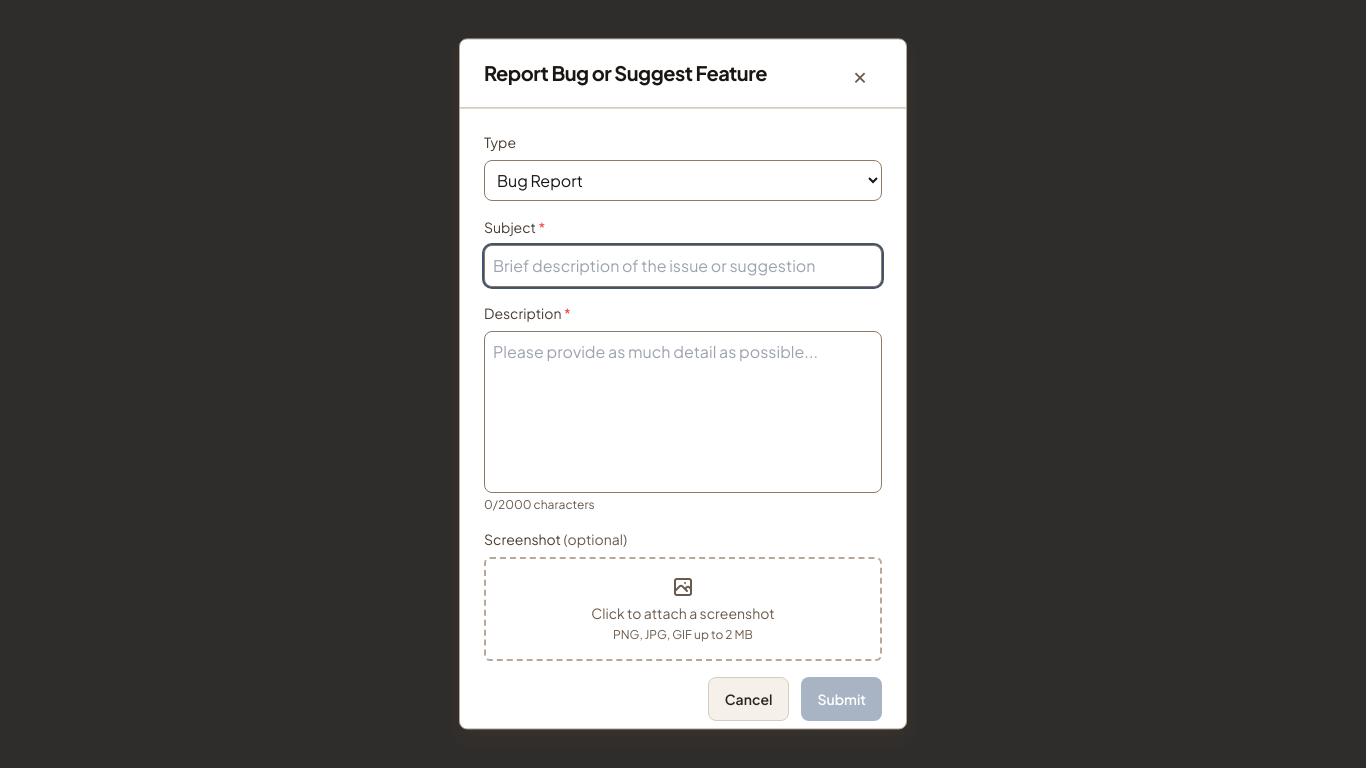
Test: FeedbackForm logged-out submission (87.6 D-08) › submits to the public feedback endpoint with NO Authorization header
Type "Logged-out bug" into the field with placeholder "Brief description of the issue or suggestion". click: (683, 266)
box: [484,245,882,287]
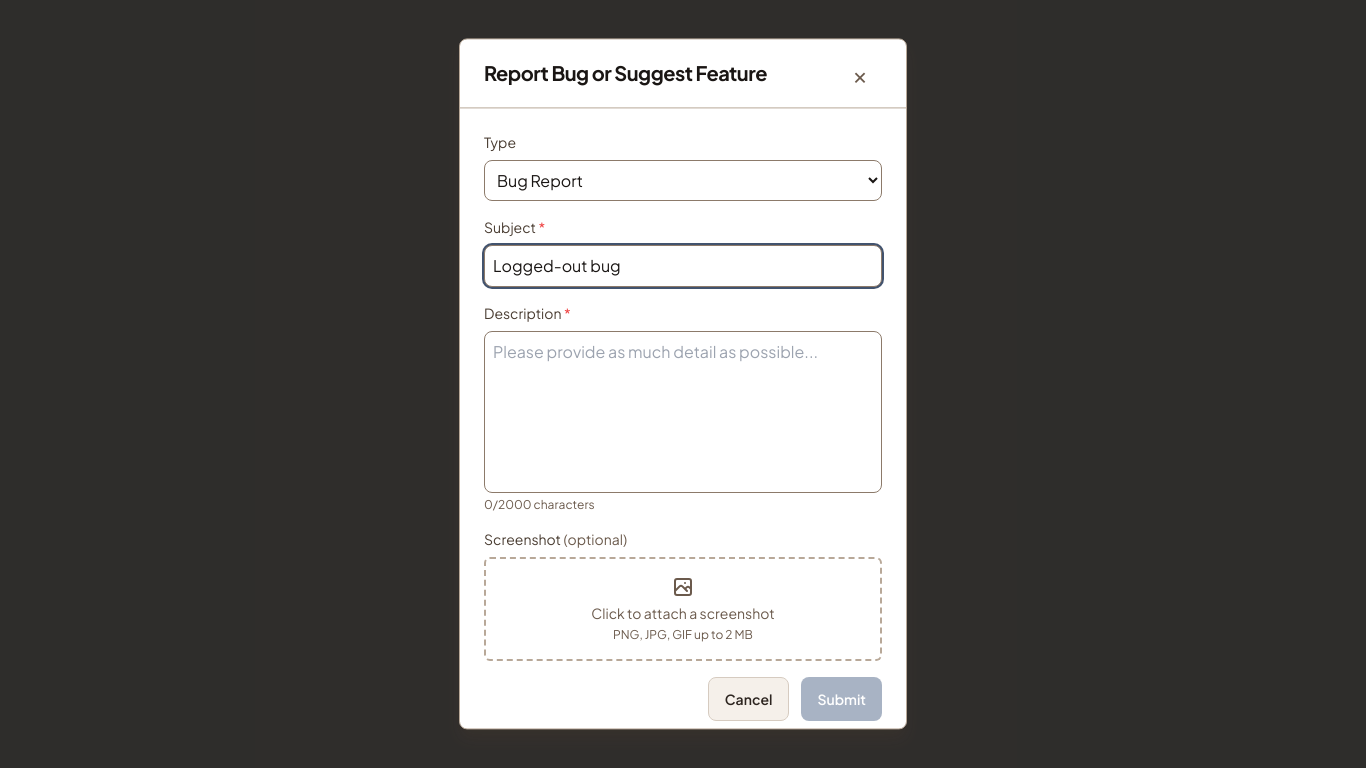
Type "Reporting this while signed out." into the text box with placeholder "Please provide as much detail as possible...". click: (683, 412)
box: [484,331,882,493]
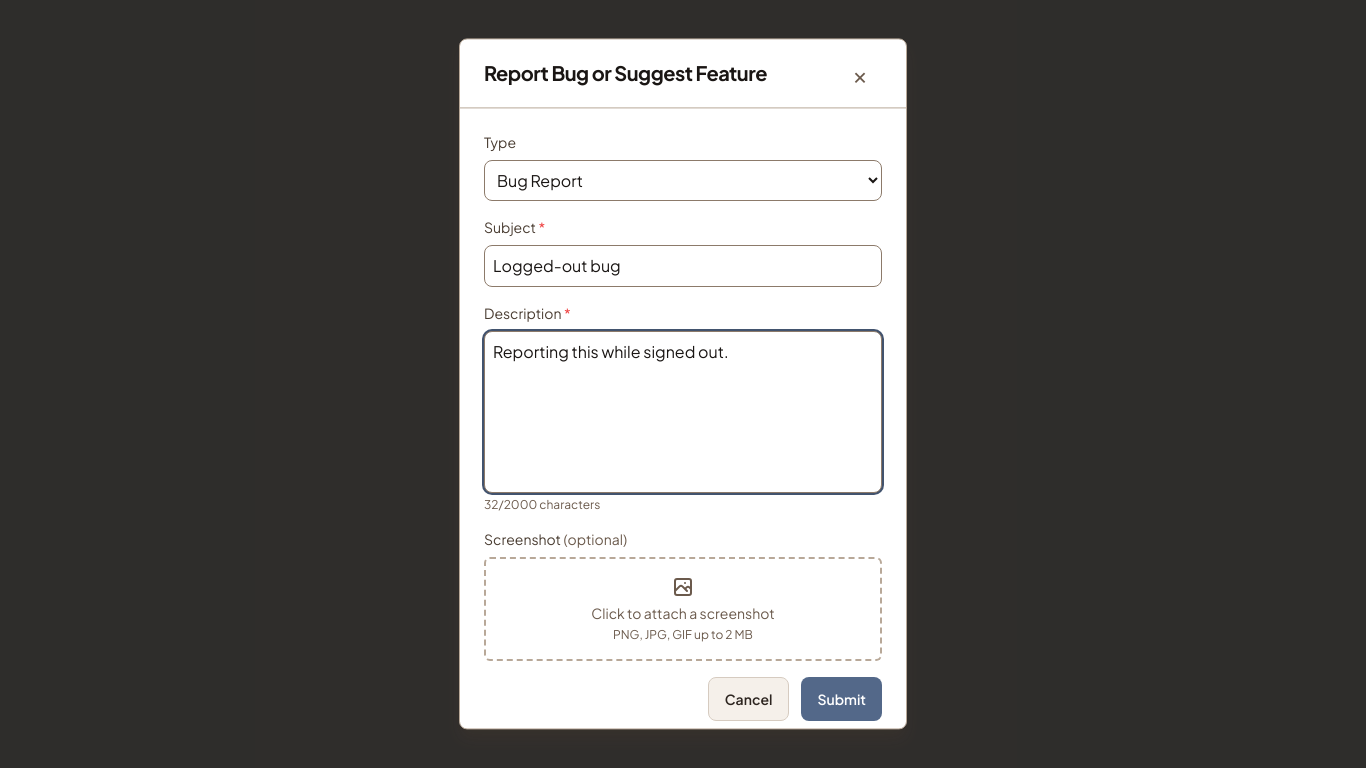
Click the button "Submit". click: (842, 699)
box: [801,677,882,721]
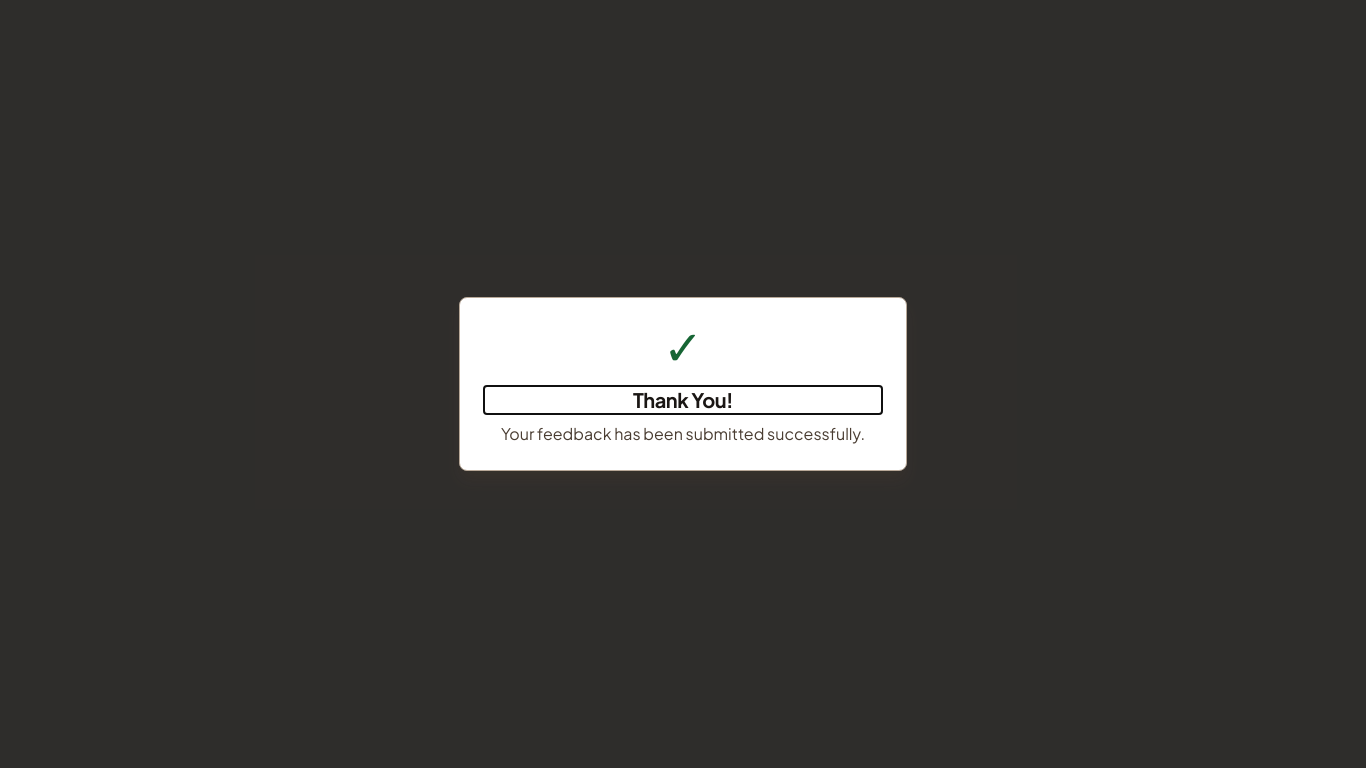
Now the heading "Thank You!" is shown, box [633,387,733,412]
